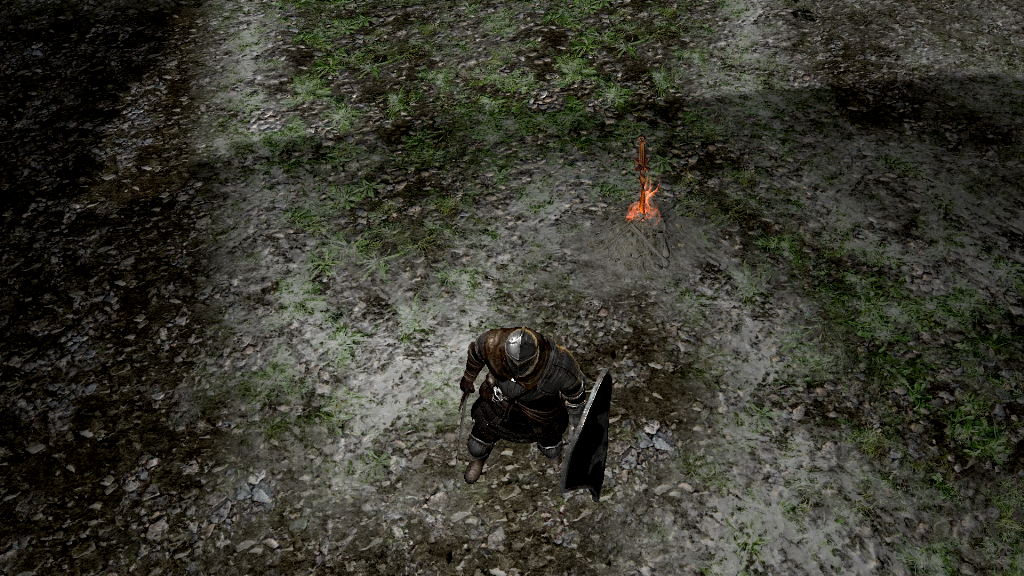bonfire: (620, 133, 662, 241)
player: (455, 326, 613, 505)
